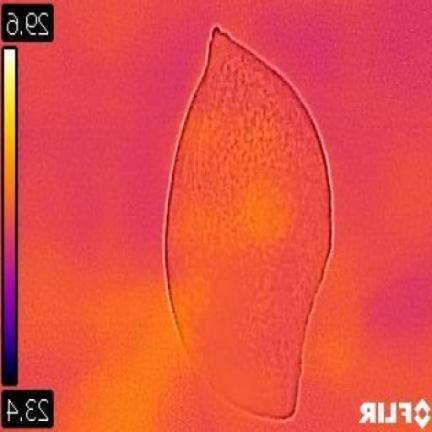mango: (0, 0, 432, 432), (166, 31, 332, 417)
